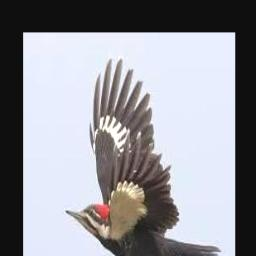Woodpecker: (65, 58, 221, 256)
